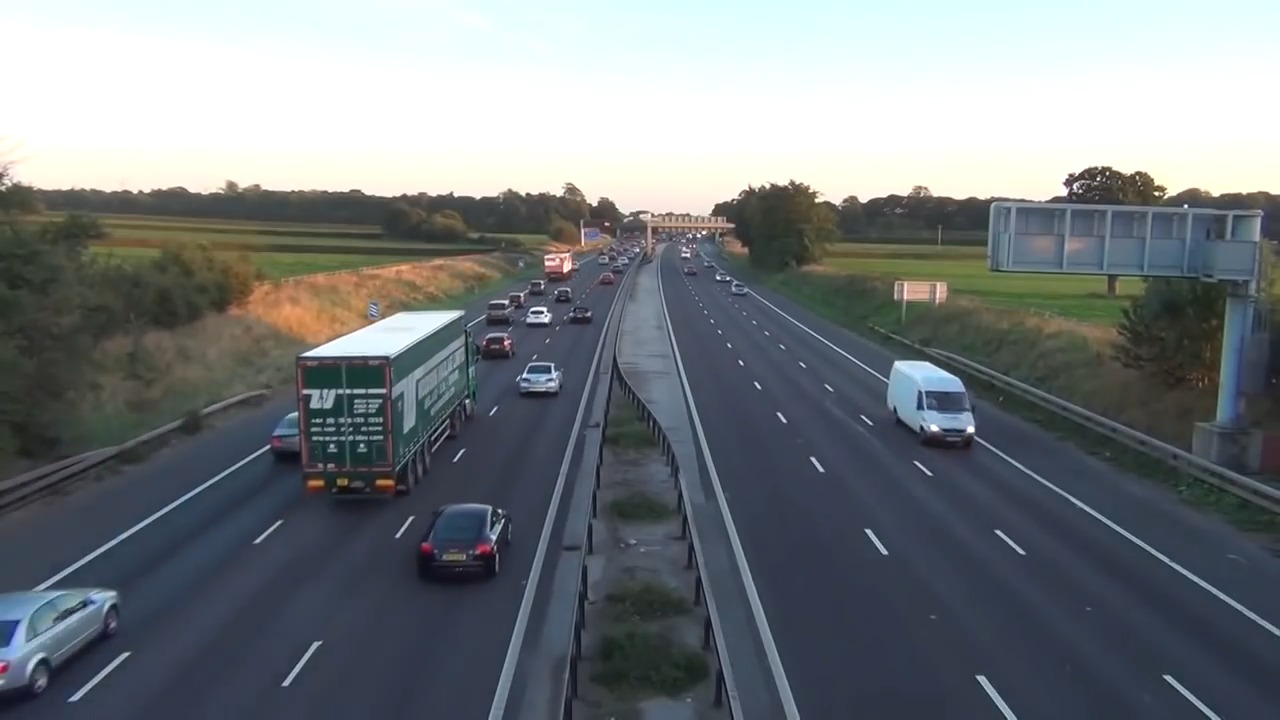truck: (297, 305, 480, 504)
